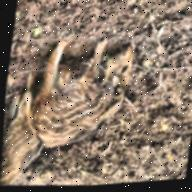boar: (25, 21, 142, 149)
